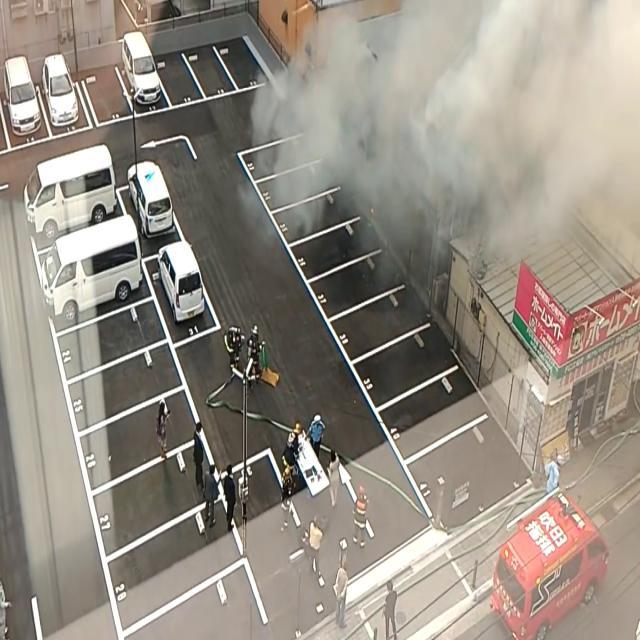Smoke: (256, 0, 640, 268)
